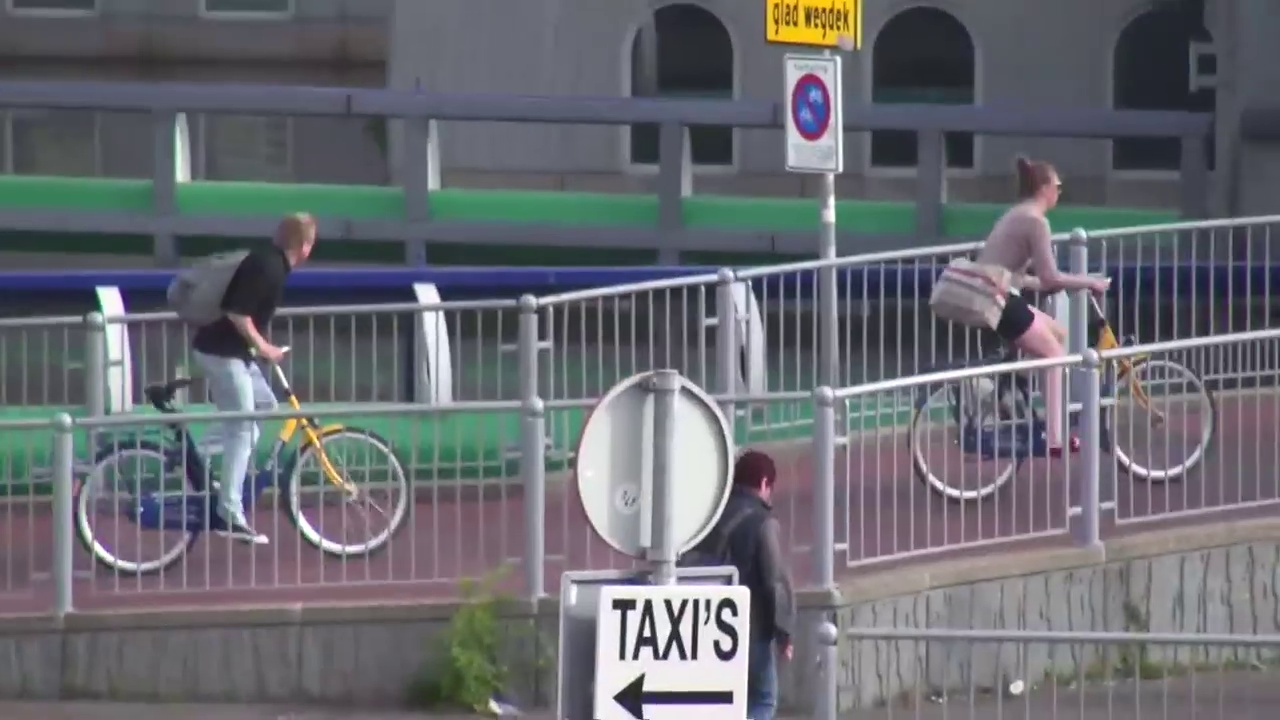cyclist_side: (63, 218, 413, 579), (906, 124, 1220, 501)
